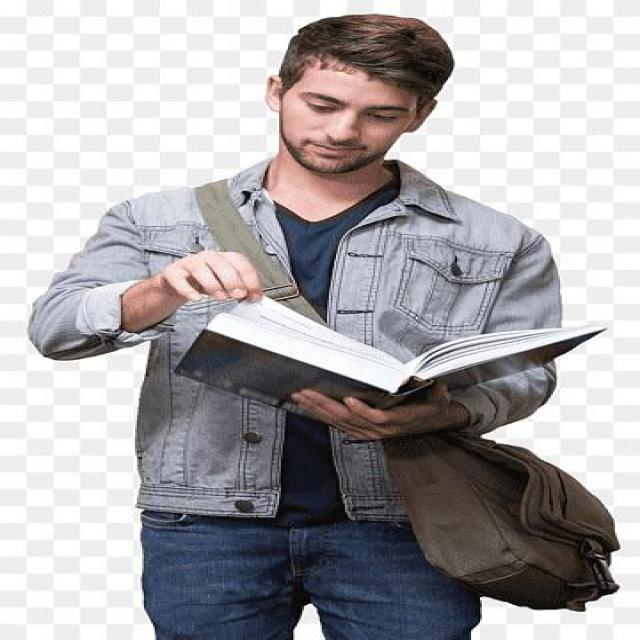person: (37, 4, 638, 634)
